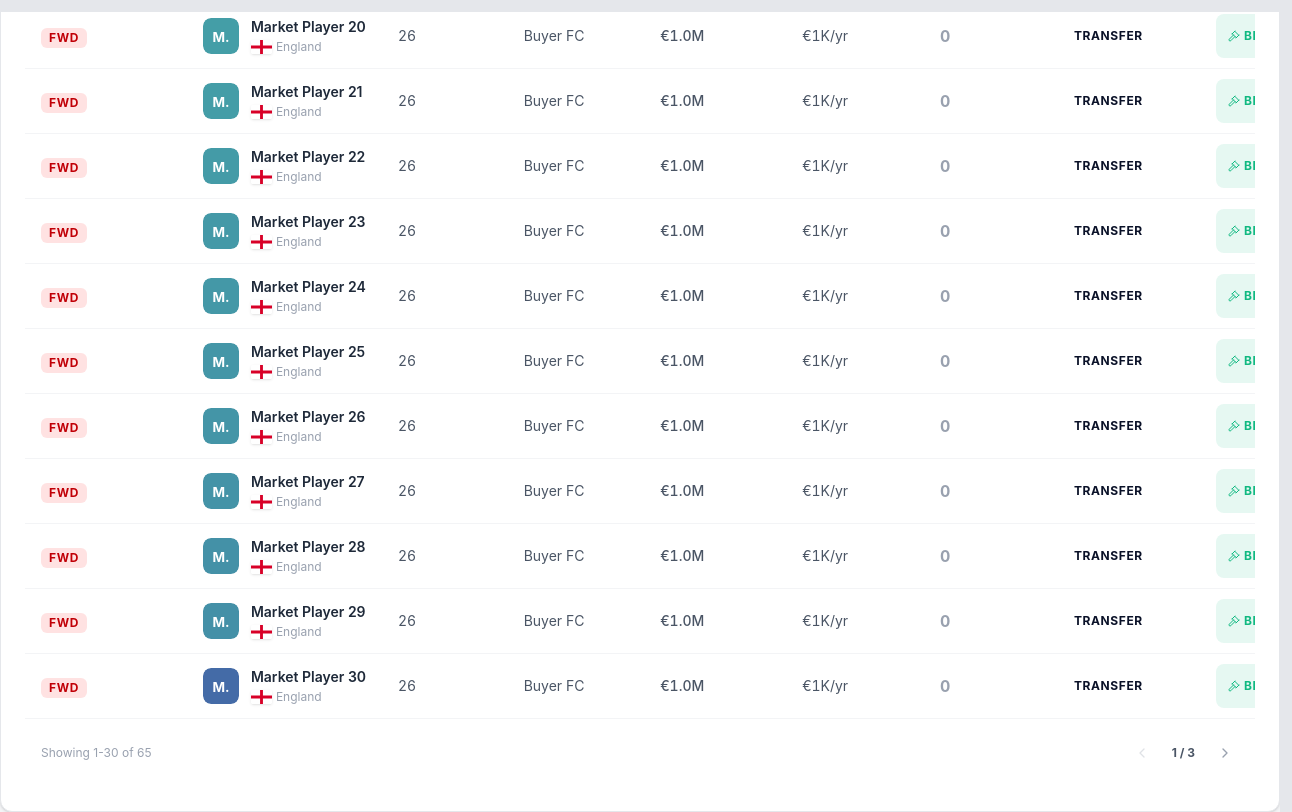
it: TransfersTab › paginates the transfer players list instead of mounting every market row
This screenshot has width=1292, height=812.
(page scrolled)
Expected: the text "Market Player 30" is shown, [251,667,366,687]
Expected: the text "Showing 1-30 of 65" is shown, [41,745,152,761]
Click the button named "Next page": (1225, 753) [1211,731,1239,775]
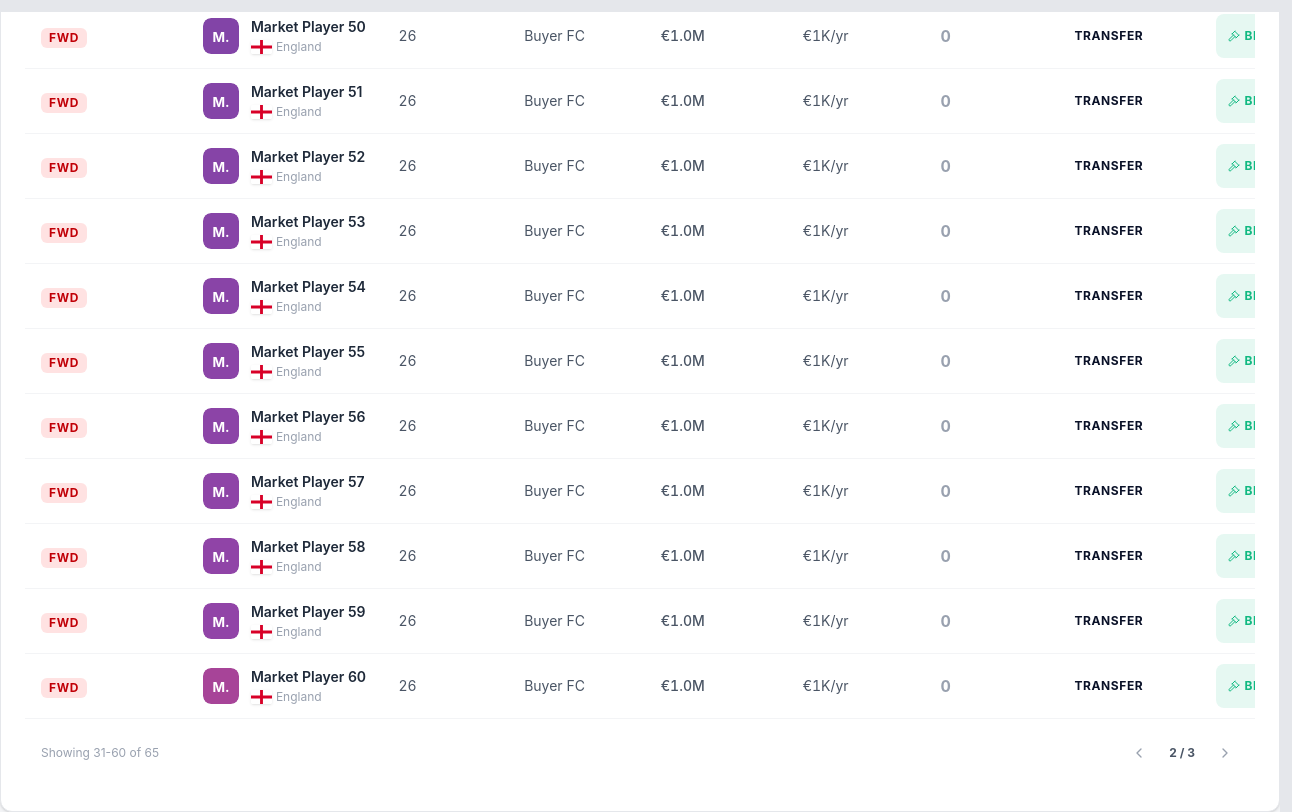
Result: the text "Showing 31-60 of 65" is shown at [41,745,159,761]
